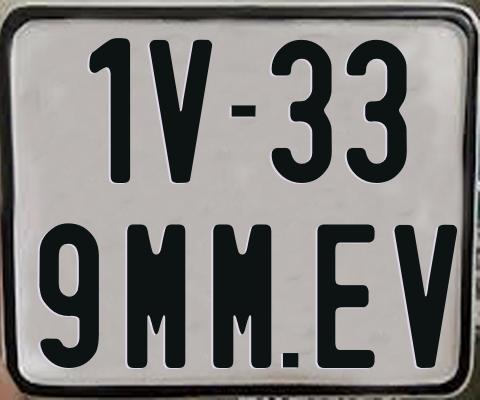1: (89, 37, 131, 186)
3: (269, 38, 333, 184), (344, 38, 405, 187)
9: (36, 223, 98, 373)
E: (316, 224, 380, 370)
M: (213, 222, 277, 372), (126, 221, 190, 368)
V: (392, 224, 459, 370), (149, 40, 213, 184)
